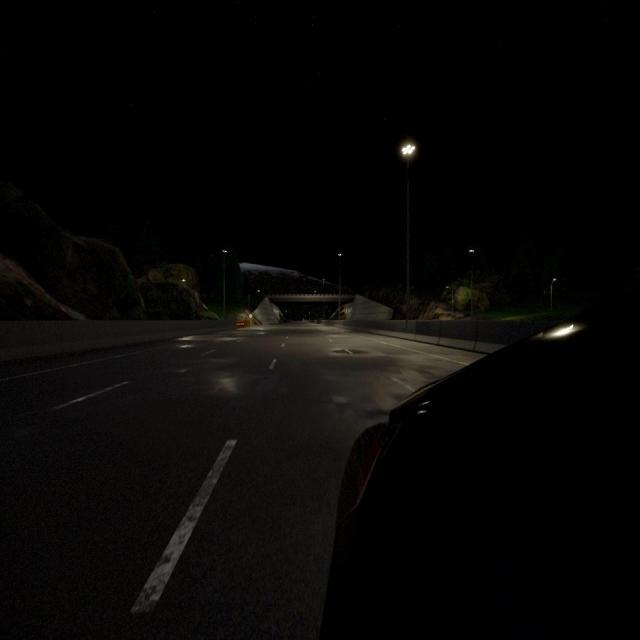Traffic_Signs: (249, 314, 253, 318)
Vehicle: (320, 286, 640, 638)
